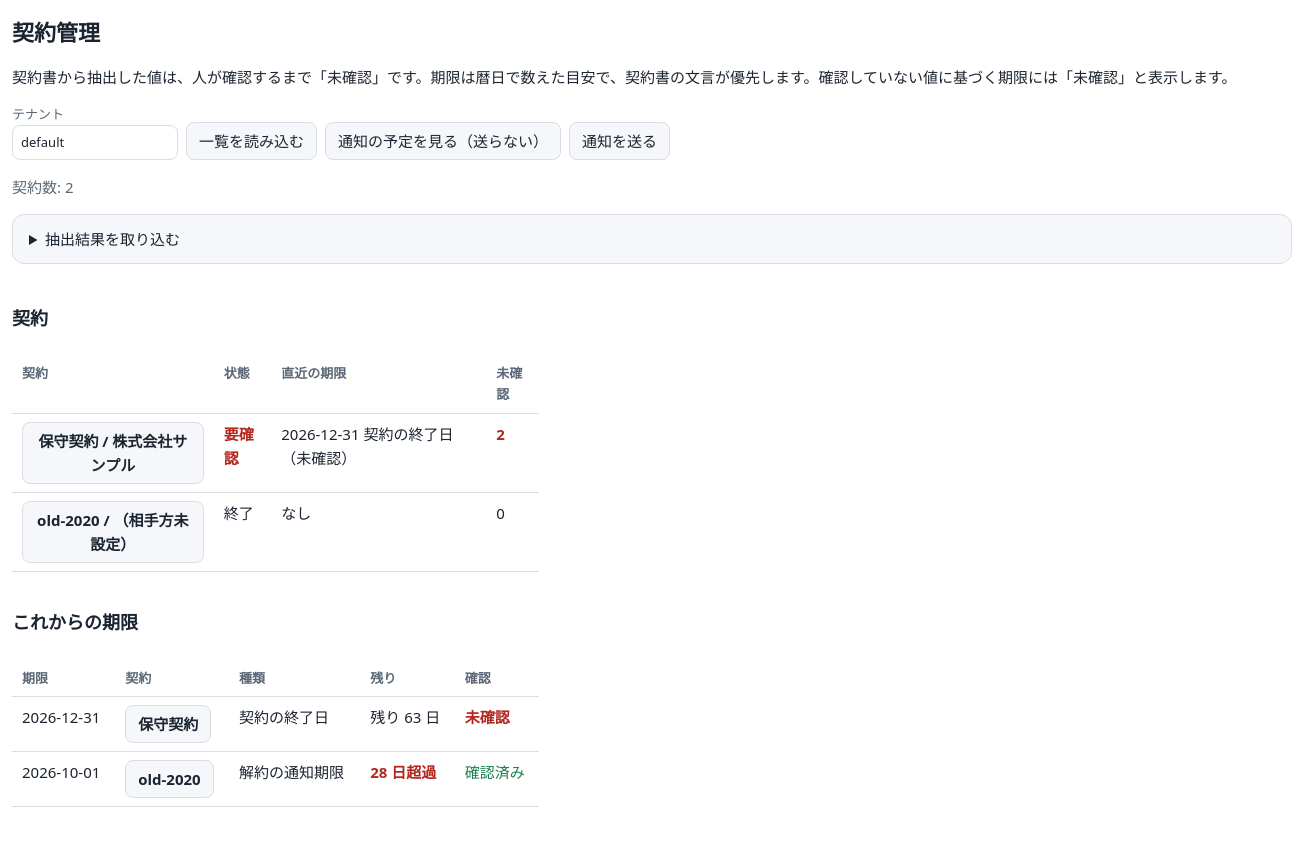
Test: the contract detail › confirms a field with the CSRF token
Click the button with aria-label "保守契約 / 株式会社サンプル の詳細を開く": (113, 453) [22, 422, 204, 484]
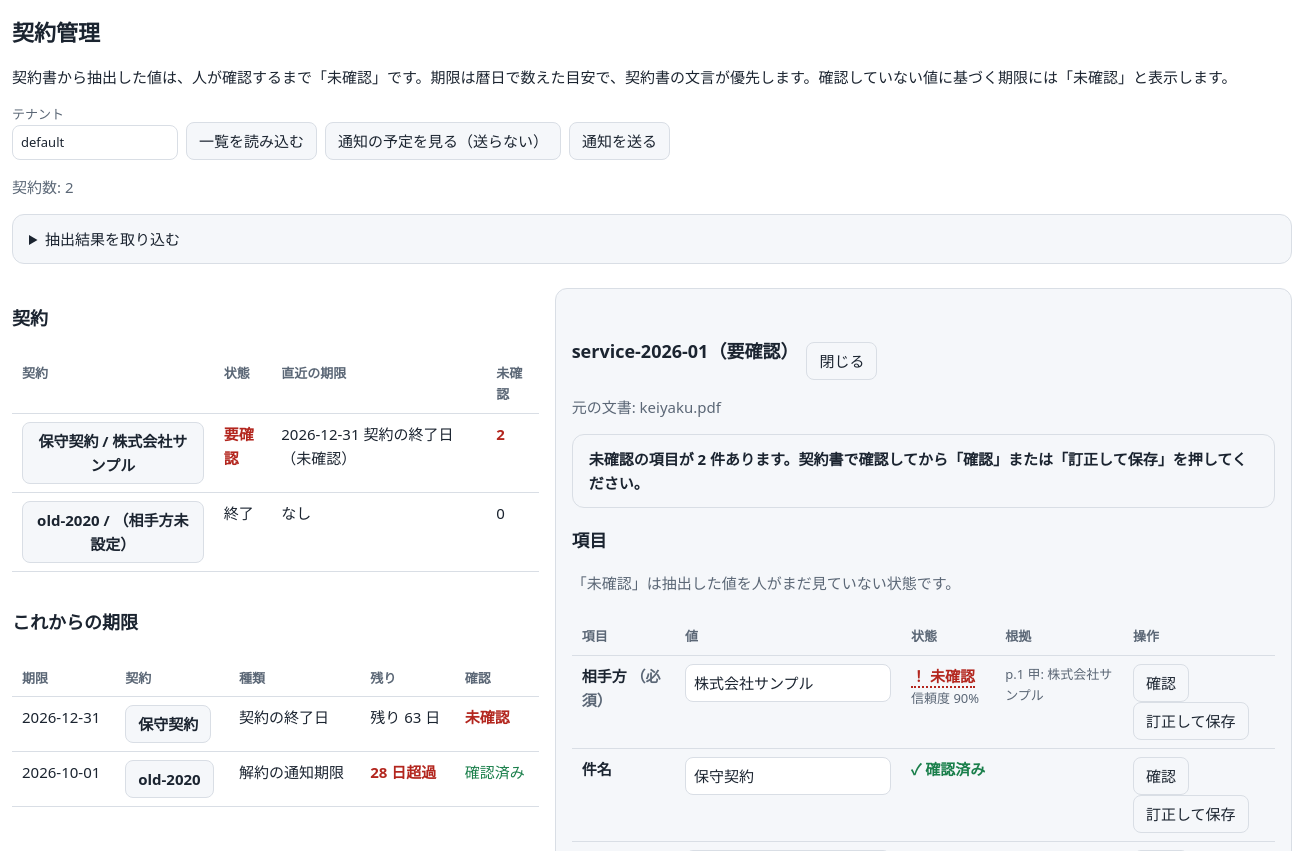
Click the button with aria-label "相手方 を確認": (1161, 683) [1133, 664, 1189, 702]
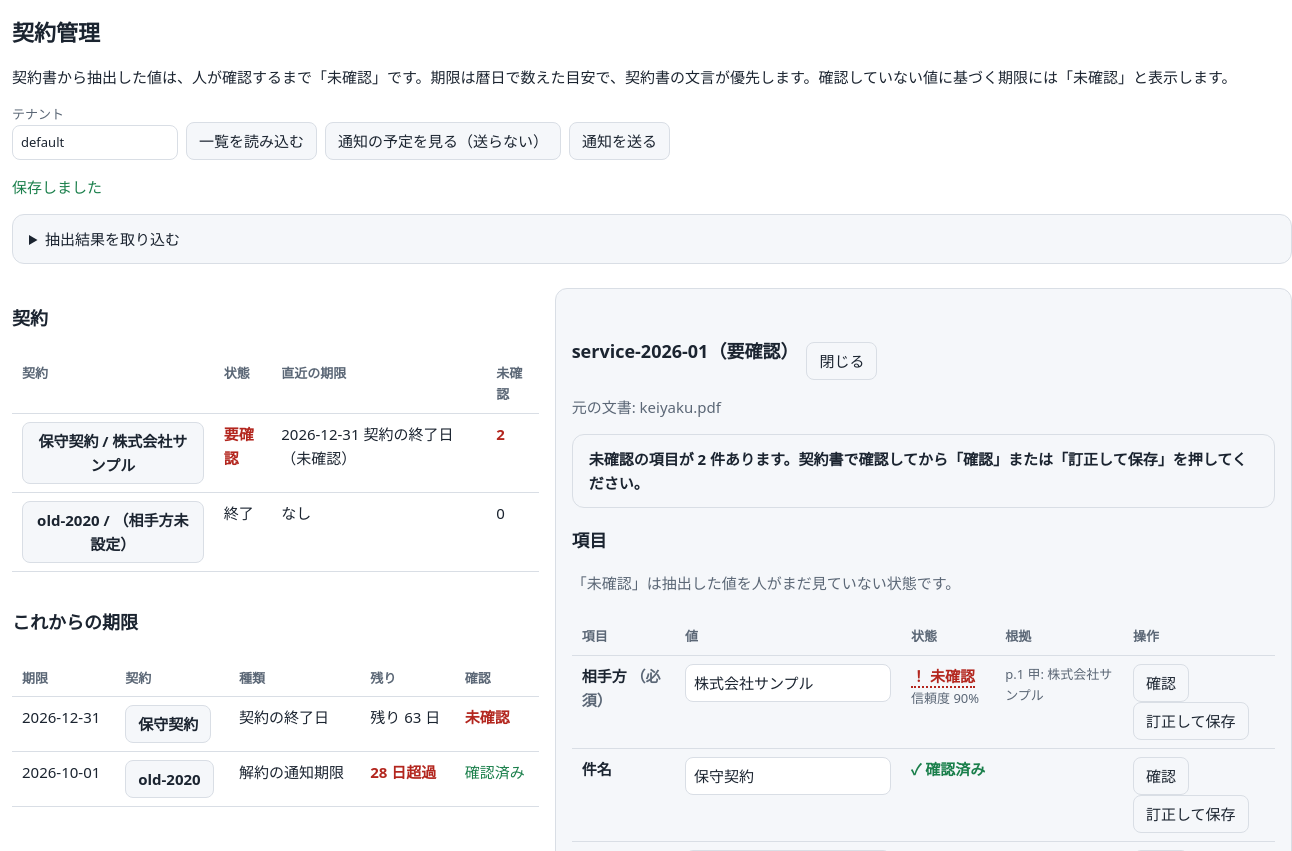
Expected: the text "保存しました" is shown, [12, 176, 102, 196]
